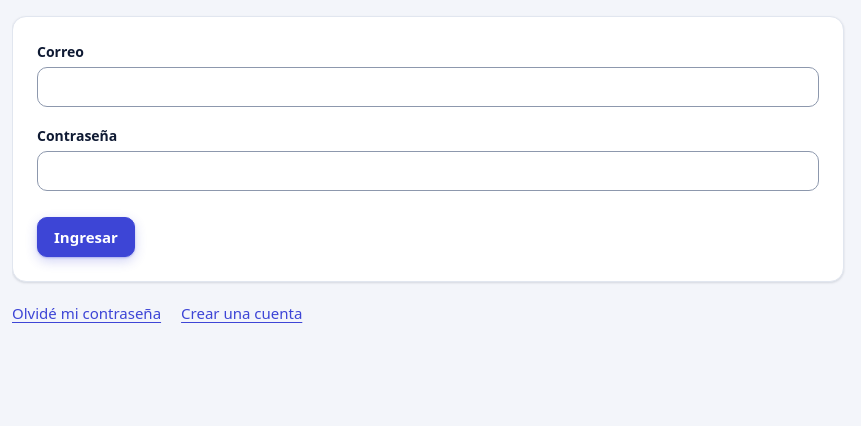
Test: Ingresar › explains a locked email and offers to choose a new password
In the field labelled "Correo": (428, 87) [37,67,819,107], type "ana@example.test"
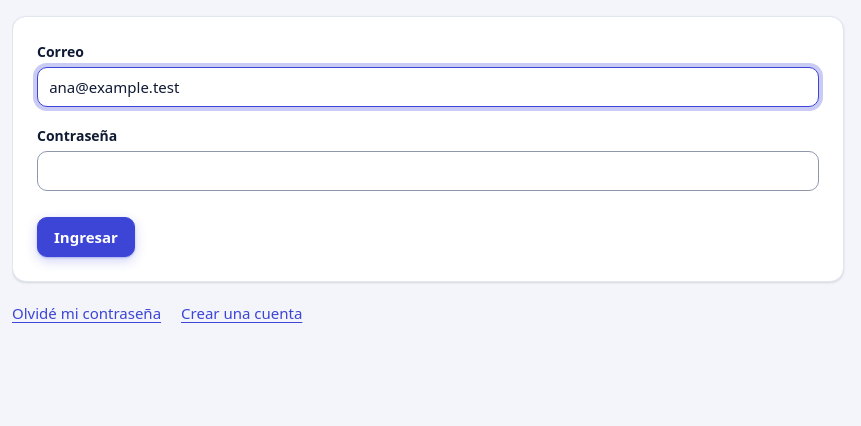
In the password field labelled "Contraseña": (428, 171) [37,151,819,191], type "no es"
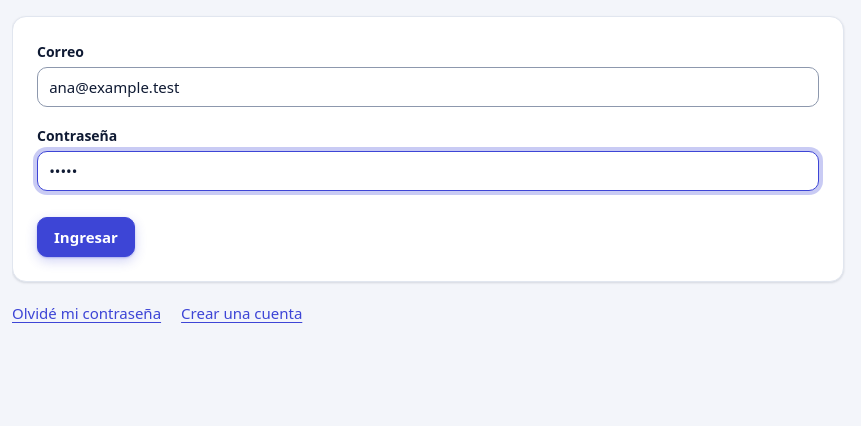
Click the button "Ingresar": (86, 237) [37,217,135,257]
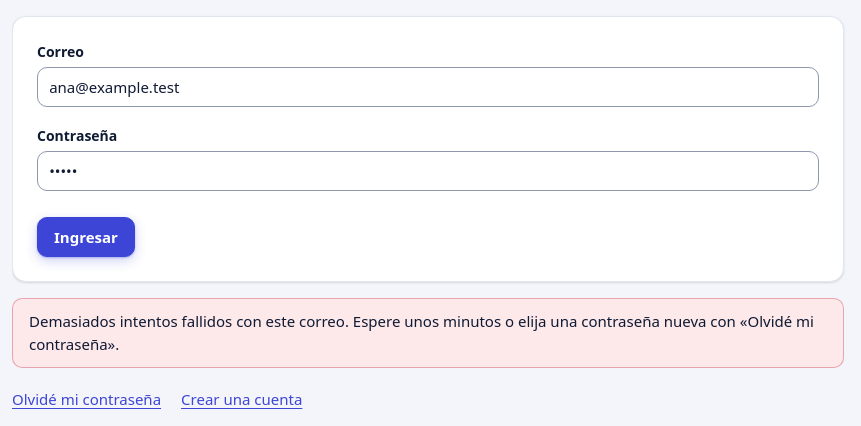
Check: the message shows "Demasiados intentos fallidos", box [29,312,814,354]
